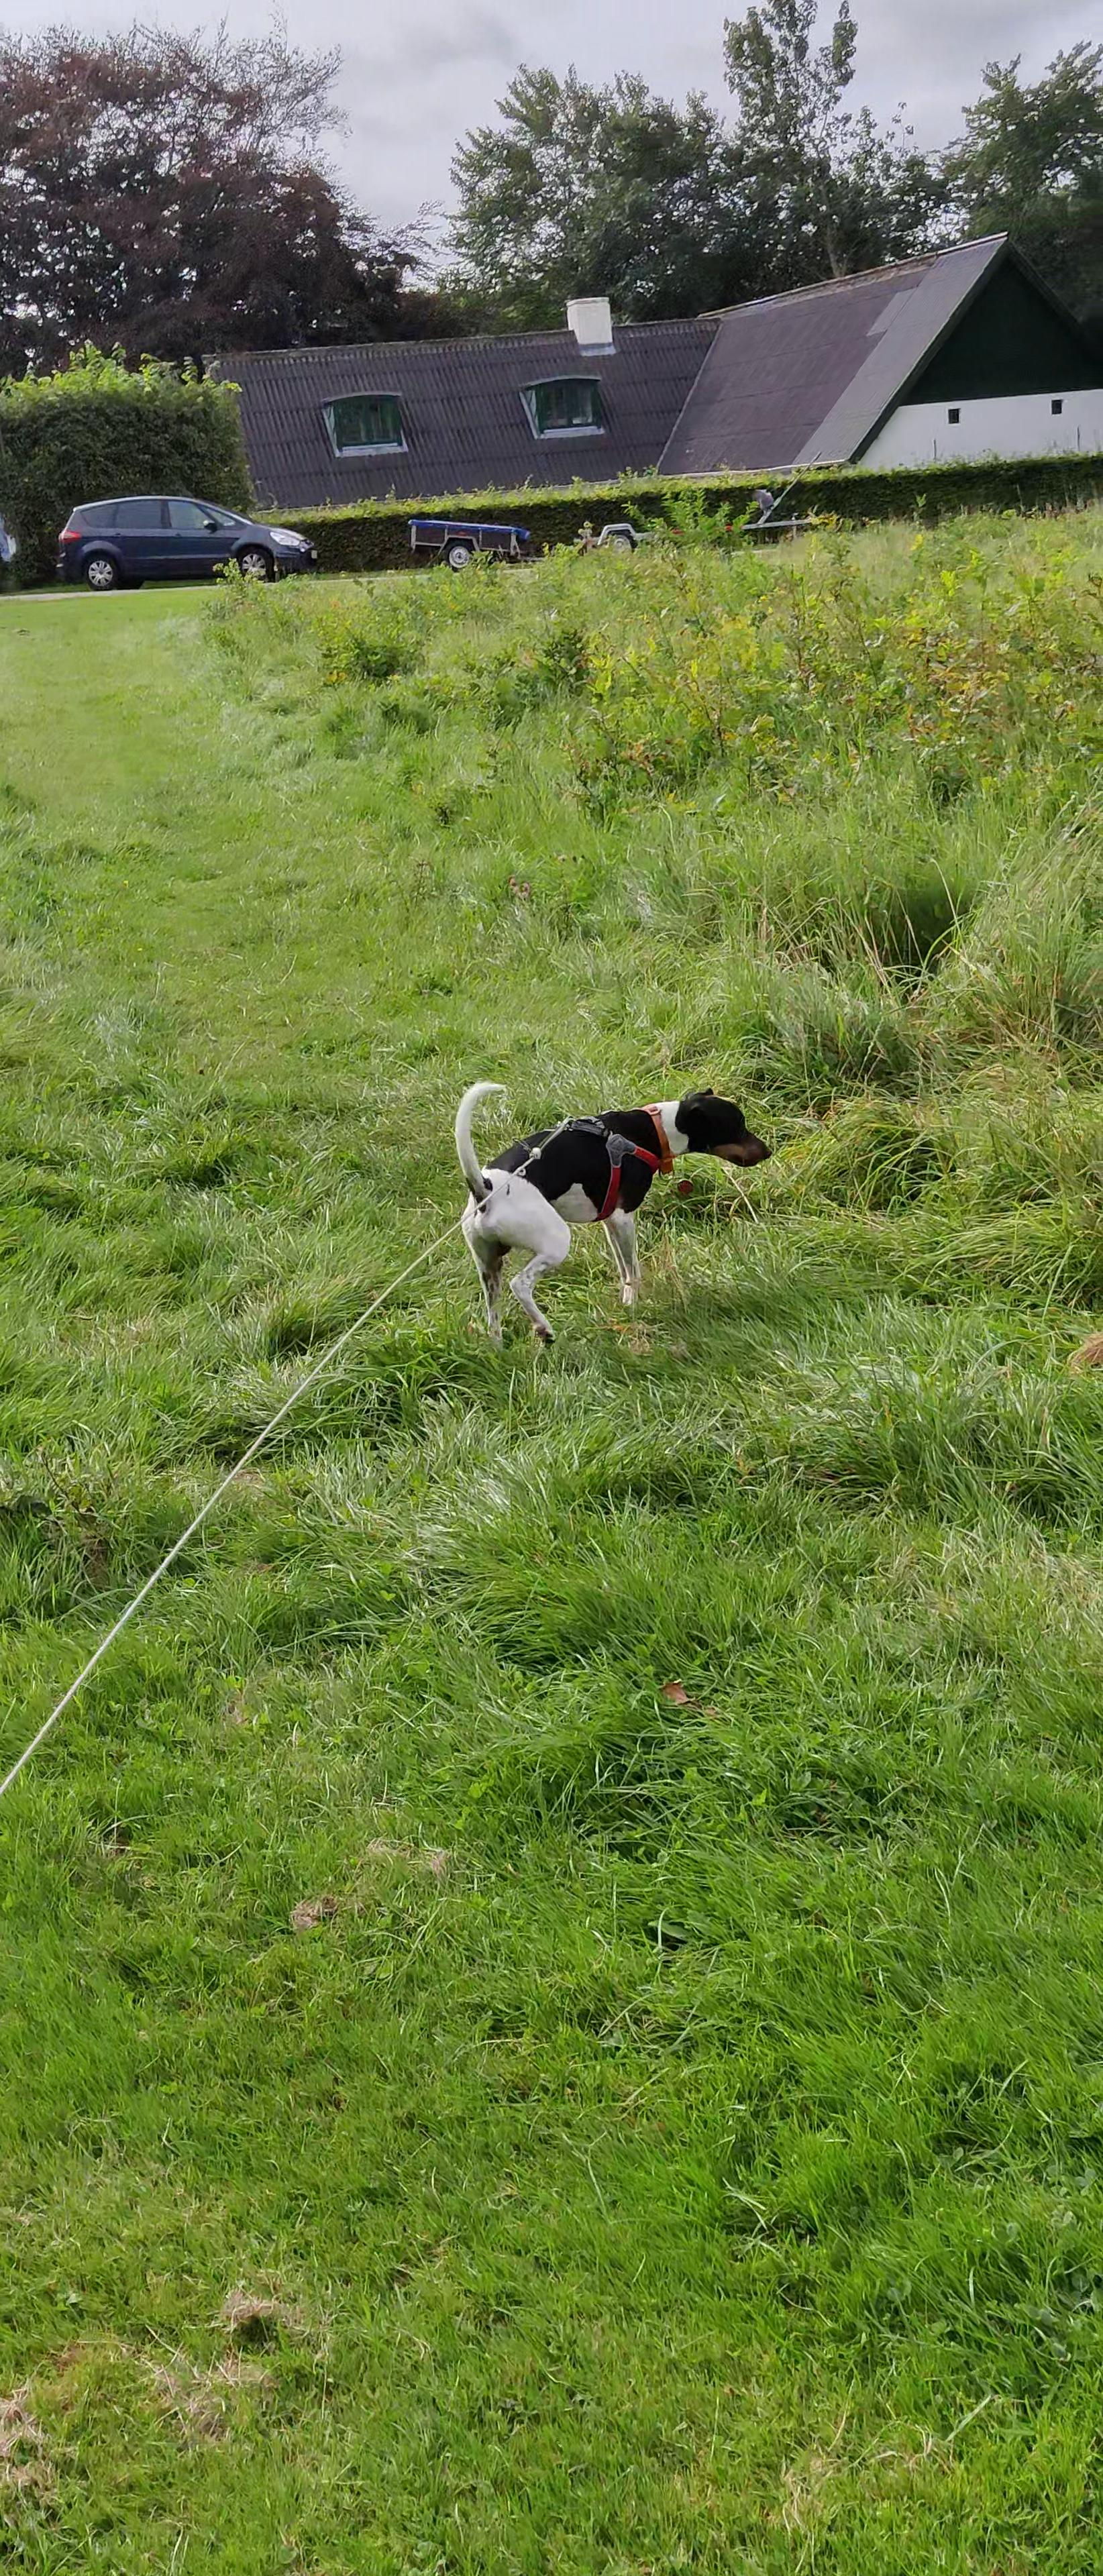Dog: (449, 1068, 778, 1357)
